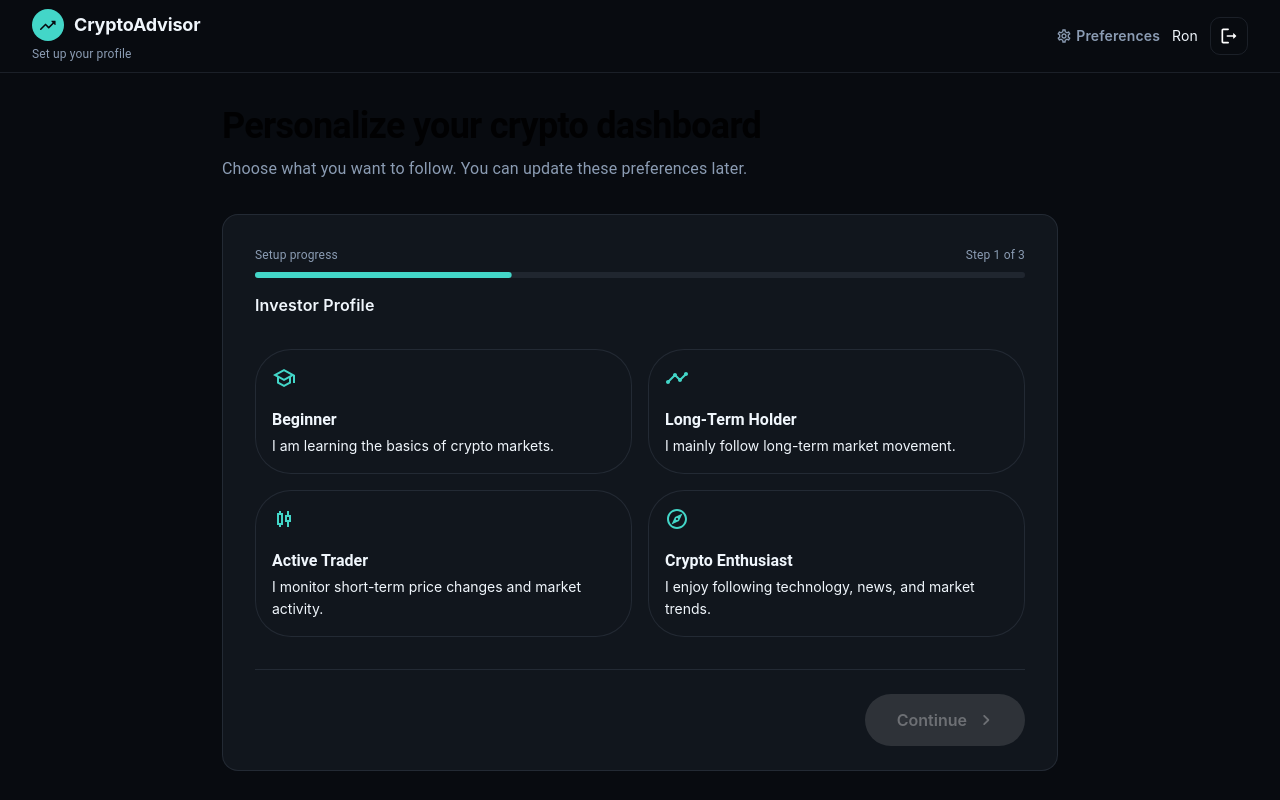
Test: onboarding flow › shows retry state when coin loading fails
Expected: the heading "Investor profile" is shown, [255, 295, 374, 315]
Click the button "Beginner I am learning the basics of crypto markets.". click: (304, 419)
box: [255, 349, 632, 474]
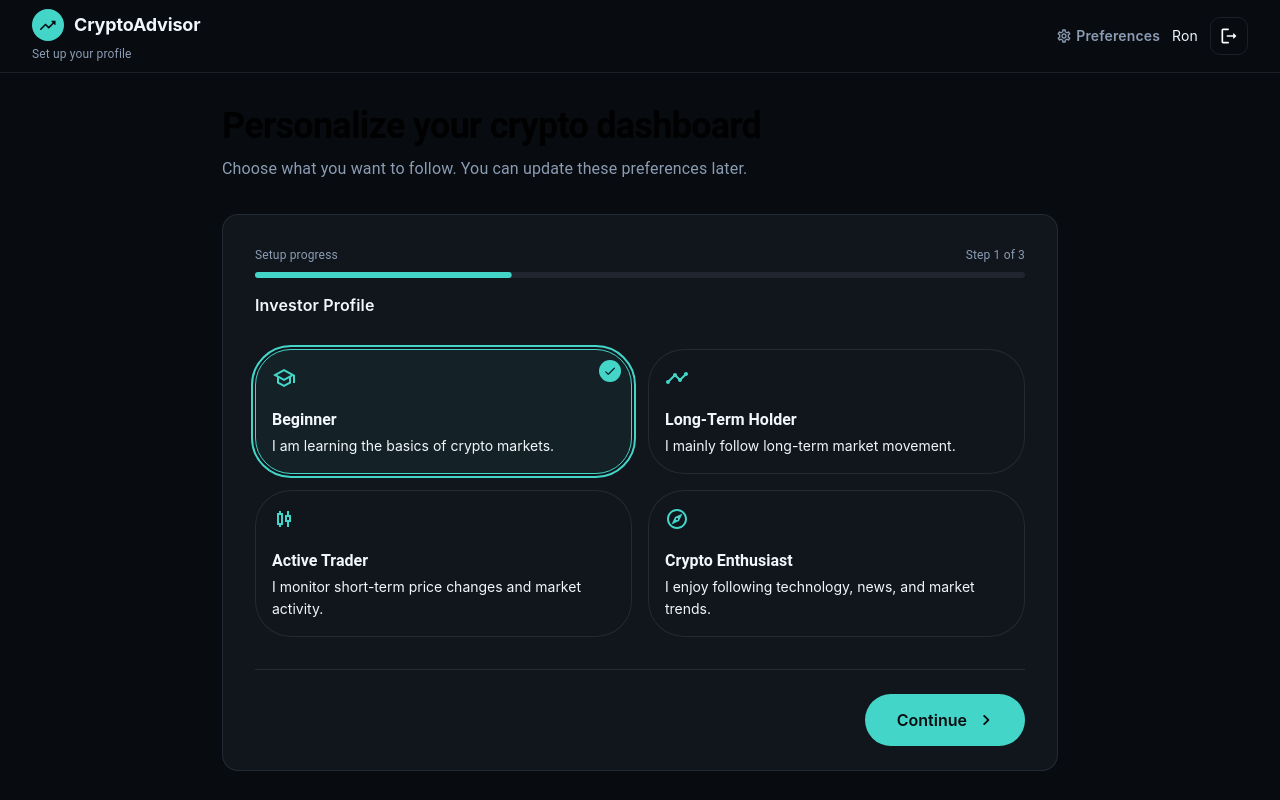
Click the button "Continue". click: (945, 720)
box: [865, 694, 1025, 746]
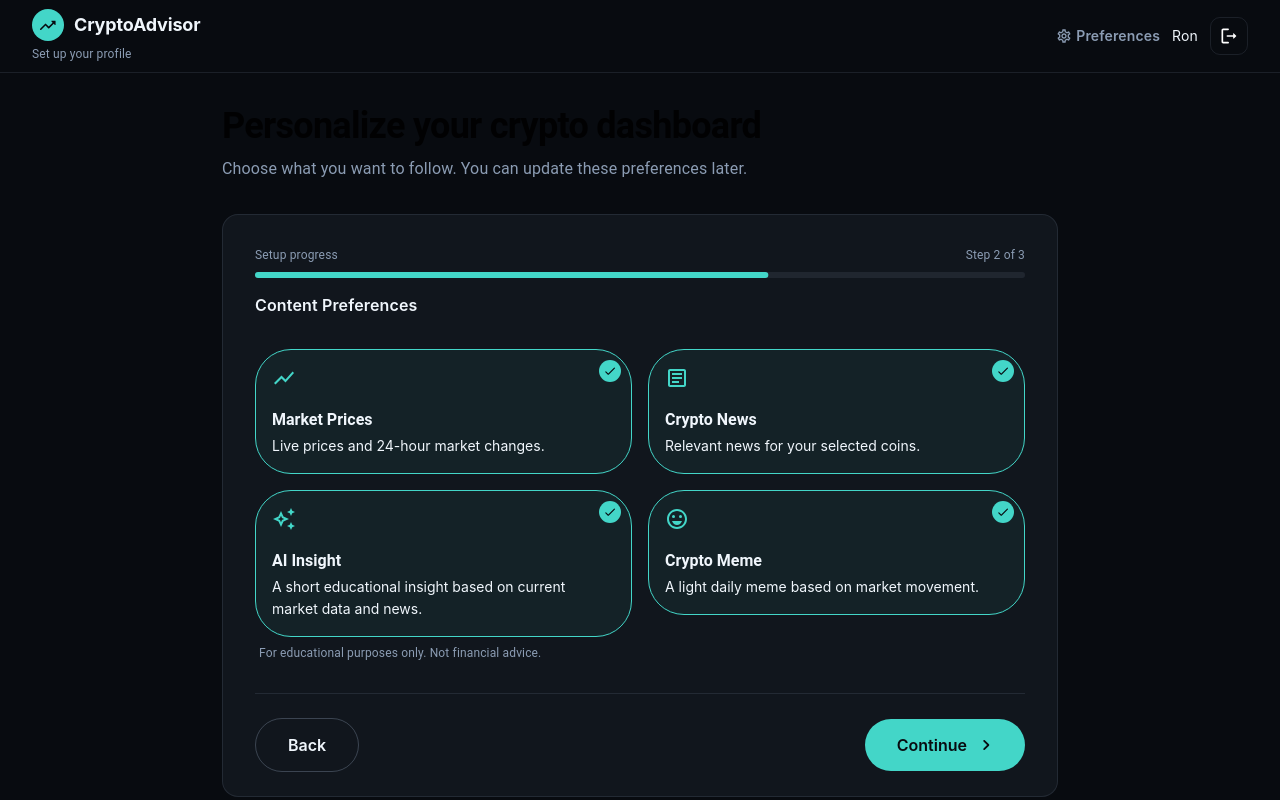
Click the button "Continue". click: (945, 745)
box: [865, 719, 1025, 771]
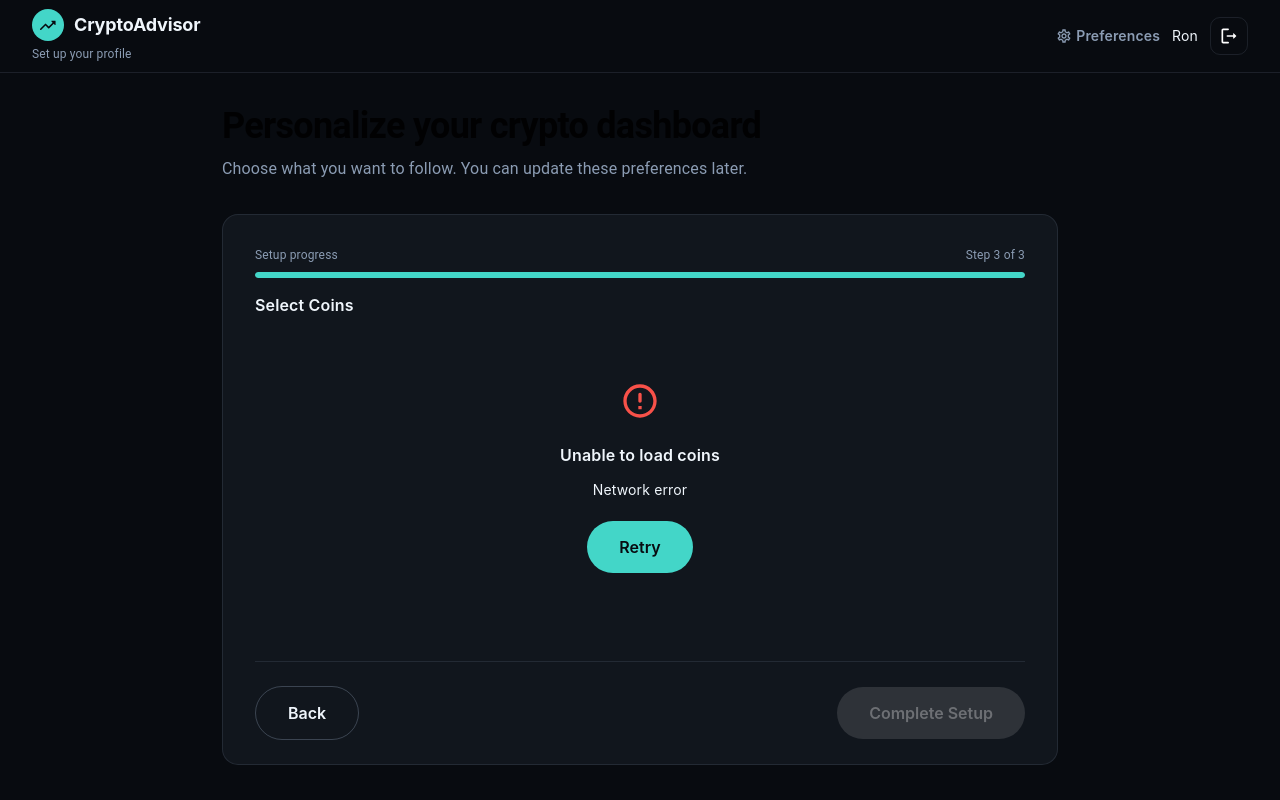
Result: the heading "Unable to load coins" is shown at [560, 444, 720, 467]
Result: the button "Retry" is shown at [587, 521, 693, 573]
